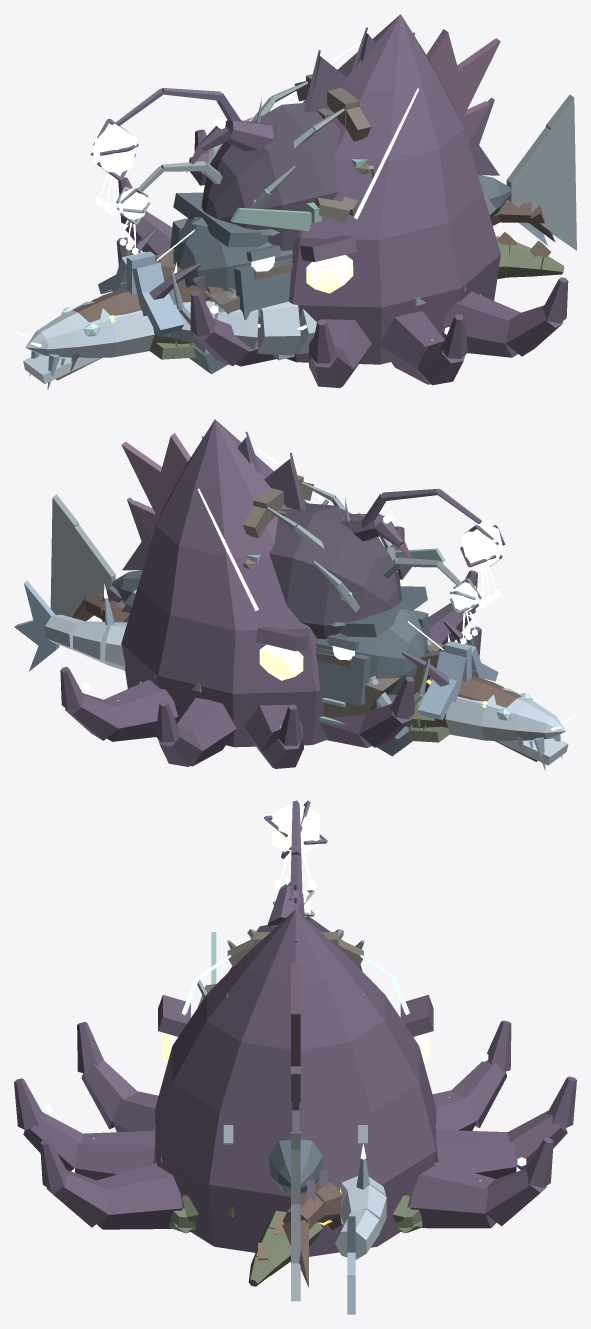
File: creatures.glb
3 views of the same model, one above another, from view 1: azimuth 30°, elevation 25°; view 2: azimuth 150°, elevation 25°; view 3: azimuth 270°, elevation 25° (orthographic). The views are drawn at different scales.
Parts seen in each view (by area): view 1: Kraken_Body, Noctyss_Body, Rimefang_Body, Leviathan_Fins, Leviathan_Body, Noctyss_Fins, AdmiralWrack_Body, Rimefang_Fins, Kraken_Fins, Pyrelisk_Body, Gnashroot_Body, Noctyss_Marks (+6 smaller); view 2: Kraken_Body, Noctyss_Body, Leviathan_Body, Leviathan_Fins, Rimefang_Body, Rimefang_Fins, Noctyss_Fins, AdmiralWrack_Body, Kraken_Fins, Pyrelisk_Body, Noctyss_Marks, Kraken_Eyes (+6 smaller); view 3: Kraken_Body, Gnashroot_Body, Rimefang_Body, Leviathan_Fins, Pyrelisk_Body, Noctyss_Fins, Noctyss_Marks, Leviathan_Body, Kraken_Fins, Rimefang_Fins, AdmiralWrack_Body, Kraken_Marks (+1 smaller).
Part boxes in pixels (<box>): Kraken_Body: <box>116,14,568,388</box>; Noctyss_Body: <box>201,103,340,250</box>; Rimefang_Body: <box>23,184,506,383</box>; Leviathan_Fins: <box>116,81,576,325</box>; Leviathan_Body: <box>170,175,510,374</box>; Noctyss_Fins: <box>90,27,499,180</box>; AdmiralWrack_Body: <box>155,74,433,314</box>; Rimefang_Fins: <box>29,222,547,389</box>; Kraken_Fins: <box>426,29,500,142</box>; Pyrelisk_Body: <box>56,200,554,380</box>; Gnashroot_Body: <box>149,236,564,359</box>; Noctyss_Marks: <box>92,123,137,216</box>; Kraken_Body: <box>60,419,481,768</box>; Noctyss_Body: <box>269,503,401,702</box>; Leviathan_Body: <box>112,570,430,756</box>; Leviathan_Fins: <box>50,482,481,707</box>; Rimefang_Body: <box>45,614,568,765</box>; Rimefang_Fins: <box>14,580,562,770</box>; Noctyss_Fins: <box>122,431,505,570</box>; AdmiralWrack_Body: <box>184,475,444,731</box>; Kraken_Fins: <box>121,433,190,539</box>; Pyrelisk_Body: <box>72,593,537,761</box>; Noctyss_Marks: <box>461,522,503,608</box>; Kraken_Eyes: <box>259,579,405,680</box>; Kraken_Body: <box>14,909,576,1256</box>; Gnashroot_Body: <box>169,1195,422,1286</box>; Rimefang_Body: <box>335,1176,386,1259</box>; Leviathan_Fins: <box>154,890,436,1301</box>; Pyrelisk_Body: <box>282,1181,342,1287</box>; Noctyss_Fins: <box>264,800,327,1133</box>; Noctyss_Marks: <box>272,803,319,889</box>; Leviathan_Body: <box>268,1139,322,1194</box>; Kraken_Fins: <box>291,962,300,1102</box>; Rimefang_Fins: <box>347,1158,369,1314</box>; AdmiralWrack_Body: <box>197,932,364,1007</box>; Kraken_Marks: <box>44,955,526,1181</box>.
Size of the model in its own units: 21.51 by 10.96 by 17.16.
